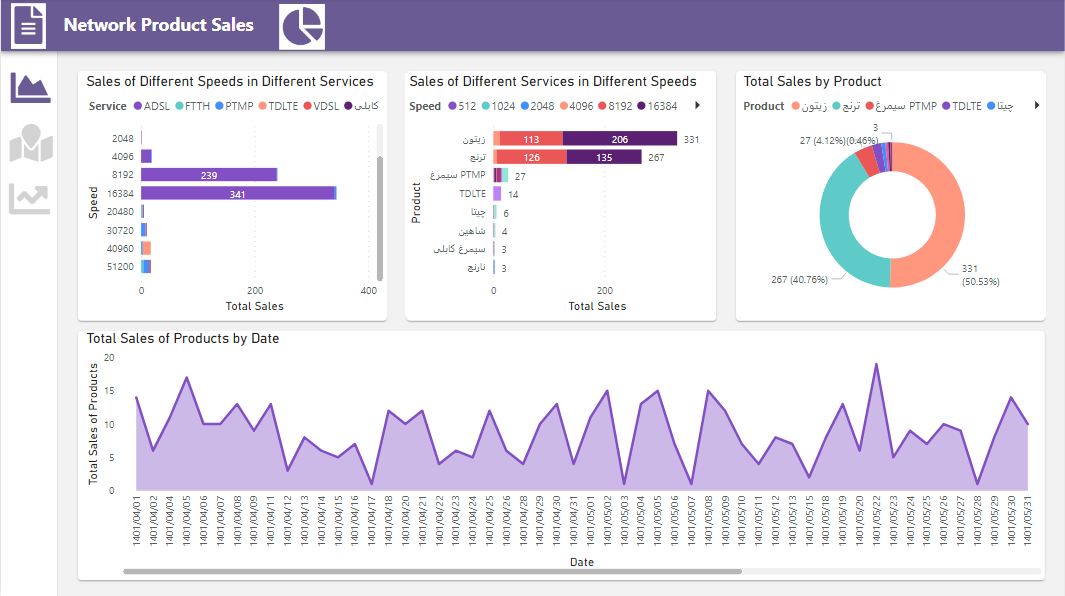

Layout of this report page (visuals, bound fields, positions):
{"tool":"powerbi","page":{"name":"Sales","canvas":[1280,720],"ordinal":0},"visuals":[{"type":"textbox","box":[69.5,11.3,248.1,39.7],"z":0},{"type":"image","box":[0,81.9,69.5,53.3],"z":1000},{"type":"image","box":[0,204.1,69.5,65.2],"z":2000},{"type":"image","box":[1.4,138.9,69.5,65.2],"z":3000},{"type":"actionButton","box":[0,75.1,68,59.5],"z":4000},{"type":"actionButton","box":[0,79.4,68,59.5],"z":5000},{"type":"actionButton","box":[0,204.1,68,65.2],"z":6000},{"type":"actionButton","box":[0,137.5,69.5,66.6],"z":7000},{"type":"areaChart","fields":{"Category":["time.Date"],"Y":["CountNonNull(sales.Product_id)"]},"box":[97.8,398.3,1158.1,299.1],"z":8000,"group":"g1"},{"type":"donutChart","fields":{"Category":["products.Product"],"Y":["CountNonNull(sales.Product_id)"]},"box":[887.3,89.3,368.5,293.4],"z":9000,"group":"g1"},{"type":"barChart","title":"Sales of Different Services in Different Speeds","fields":{"Category":["products.Product"],"Y":["CountNonNull(sales.Product_id)"],"Series":["products.Speed"]},"box":[486.2,89.3,371.4,293.4],"z":10000,"group":"g1"},{"type":"barChart","title":"Sales of Different Speeds in Different Services","fields":{"Category":["products.Speed"],"Y":["CountNonNull(sales.Product_id)"],"Series":["products.Service"]},"box":[97.8,89.3,367.1,293.4],"z":11000,"group":"g1"},{"type":"image","box":[0,80.8,69.5,53.9],"z":12000},{"type":"image","box":[0,0,65.2,65.2],"z":13000},{"type":"image","box":[328.9,0,65.2,66.6],"z":14000},{"type":"group","id":"g1","title":"Group 1","box":[97.8,89.3,1158.1,608.1],"z":14001}]}

Visuals, with their boxes in screenshot pixels (x1, y1, x2, y2), scaled from the page's 1280x720 canvas onto the 1065x596 screenshot:
textbox: 58:9:264:42
image: 0:68:58:112
image: 0:169:58:223
image: 1:115:59:169
actionButton: 0:62:57:111
actionButton: 0:66:57:115
actionButton: 0:169:57:223
actionButton: 0:114:58:169
areaChart - time.Date x CountNonNull(sales.Product_id): 81:330:1045:577
donutChart - products.Product x CountNonNull(sales.Product_id): 738:74:1045:317
"Sales of Different Services in Different Speeds" barChart: 405:74:714:317
"Sales of Different Speeds in Different Services" barChart: 81:74:387:317
image: 0:67:58:112
image: 0:0:54:54
image: 274:0:328:55
"Group 1" group: 81:74:1045:577
